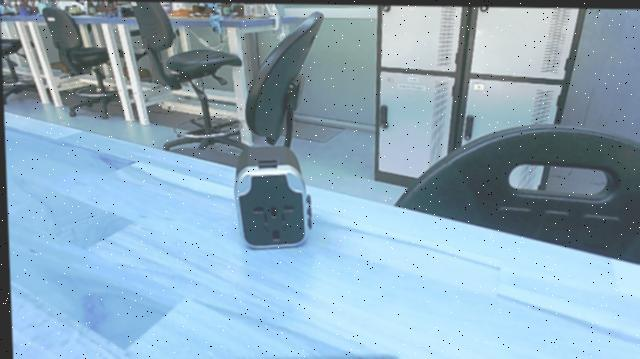adapter: (227, 142, 313, 256)
